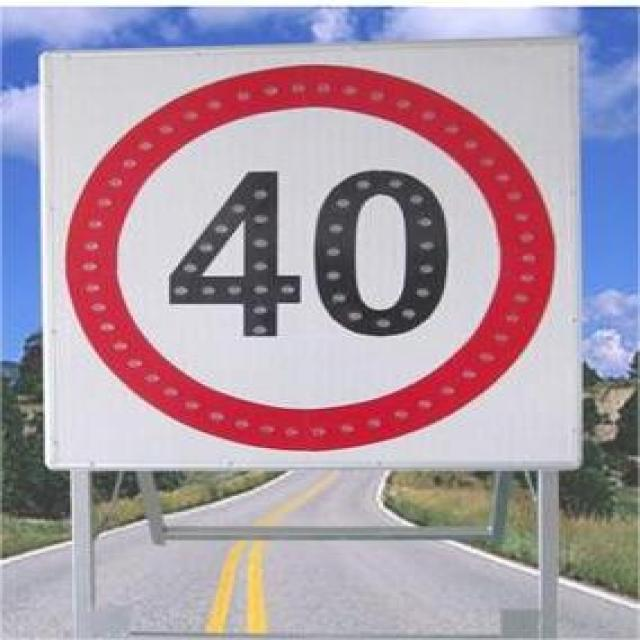speed limit 40: (68, 65, 557, 452)
